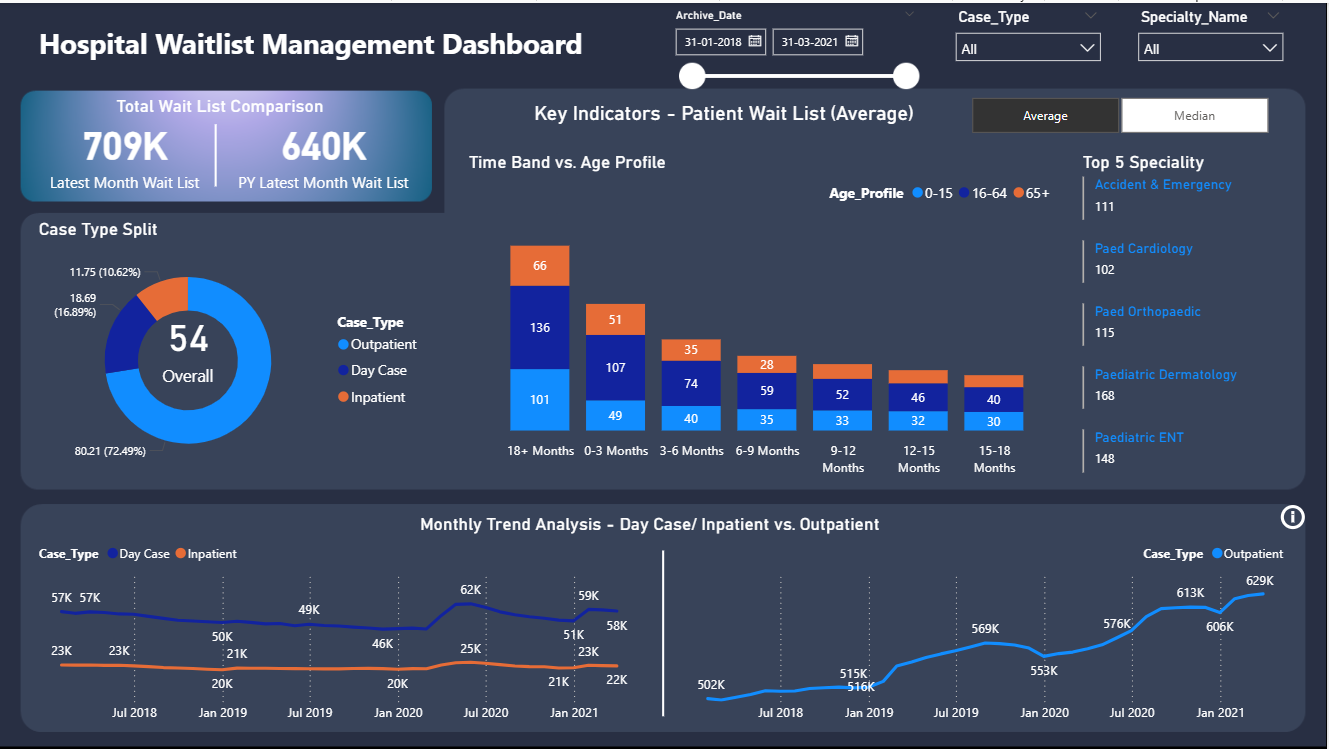

The dashboard page shown, as its layout file describes it:
{"tool":"powerbi","page":{"name":"Summary","canvas":[1280,720],"ordinal":0},"visuals":[{"type":"card","fields":{"Values":["Measures Table.Latest Month Wait List (DateTable)"]},"box":[32,96,176,96],"z":0},{"type":"card","fields":{"Values":["Measures Table.PY Latest Month Wait List"]},"box":[224,96,176,96],"z":1000},{"type":"slicer","fields":{"Values":["Calculation Method.Calc Method"]},"box":[912,84,336,48],"z":2000},{"type":"donutChart","title":"Case Type Split","fields":{"Category":["All Data.Case_Type"],"Y":["Measures Table.Avg/Med Wait List"]},"box":[32,208,384,256],"z":3000},{"type":"columnChart","title":"Time Band vs. Age Profile","fields":{"Y":["Measures Table.Avg/Med Wait List"],"Series":["All Data.Age_Profile"],"Category":["All Data.Time_Bands"]},"box":[448,144,576,320],"z":4000},{"type":"multiRowCard","title":"Top 5 Speciality","fields":{"Values":["All Data.Specialty_Name","Measures Table.Avg/Med Wait List"]},"box":[1040,144,208,336],"z":5000},{"type":"card","fields":{"Values":["Measures Table.NoDataLeft"]},"box":[176,592,304,80],"z":6000},{"type":"lineChart","fields":{"Category":["All Data.Archive_Date"],"Y":["Sum(All Data.Total)"],"Series":["All Data.Case_Type"]},"box":[32,512,592,192],"z":7000},{"type":"card","fields":{"Values":["Measures Table.NoDataRight"]},"box":[800,592,304,80],"z":8000},{"type":"lineChart","fields":{"Category":["All Data.Archive_Date"],"Y":["Sum(All Data.Total)"],"Series":["All Data.Case_Type"]},"box":[656,512,592,192],"z":9000},{"type":"slicer","fields":{"Values":["All Data.Archive_Date"]},"box":[640,0,256,96],"z":10000},{"type":"slicer","fields":{"Values":["All Data.Case_Type"]},"box":[912,0,160,64],"z":11000},{"type":"slicer","fields":{"Values":["All Data.Specialty_Name"]},"box":[1088,0,160,64],"z":12000},{"type":"textbox","box":[32,16,544,64],"z":13000},{"type":"card","fields":{"Values":["Measures Table.Avg/Med Wait List"]},"box":[149,291,64,80],"z":14000},{"type":"shape","box":[176,117,64,60],"z":15000},{"type":"textbox","box":[107,84,224,32],"z":16000},{"type":"shape","box":[608,528,64,160],"z":17000},{"type":"textbox","box":[400,487,464,32],"z":18000},{"type":"card","fields":{"Values":["Measures Table.Dynamic Title"]},"box":[482,82,432,48],"z":19000},{"type":"actionButton","box":[1232,480,32,32],"z":19001}]}

Visuals, with their boxes in screenshot pixels (x1, y1, x2, y2), scaled from the page's 1280x720 canvas onto the 1329x749 screenshot:
card - Measures Table.Latest Month Wait List (DateTable): x1=33, y1=100, x2=216, y2=200
card - Measures Table.PY Latest Month Wait List: x1=233, y1=100, x2=415, y2=200
slicer - Calculation Method.Calc Method: x1=947, y1=87, x2=1296, y2=137
"Case Type Split" donutChart: x1=33, y1=216, x2=432, y2=483
"Time Band vs. Age Profile" columnChart: x1=465, y1=150, x2=1063, y2=483
"Top 5 Speciality" multiRowCard: x1=1080, y1=150, x2=1296, y2=499
card - Measures Table.NoDataLeft: x1=183, y1=616, x2=498, y2=699
lineChart - All Data.Archive_Date x Sum(All Data.Total): x1=33, y1=533, x2=648, y2=732
card - Measures Table.NoDataRight: x1=831, y1=616, x2=1146, y2=699
lineChart - All Data.Archive_Date x Sum(All Data.Total): x1=681, y1=533, x2=1296, y2=732
slicer - All Data.Archive_Date: x1=664, y1=0, x2=930, y2=100
slicer - All Data.Case_Type: x1=947, y1=0, x2=1113, y2=67
slicer - All Data.Specialty_Name: x1=1130, y1=0, x2=1296, y2=67
textbox: x1=33, y1=17, x2=598, y2=83
card - Measures Table.Avg/Med Wait List: x1=155, y1=303, x2=221, y2=386
shape: x1=183, y1=122, x2=249, y2=184
textbox: x1=111, y1=87, x2=344, y2=121
shape: x1=631, y1=549, x2=698, y2=716
textbox: x1=415, y1=507, x2=897, y2=540
card - Measures Table.Dynamic Title: x1=500, y1=85, x2=949, y2=135
actionButton: x1=1279, y1=499, x2=1312, y2=533
